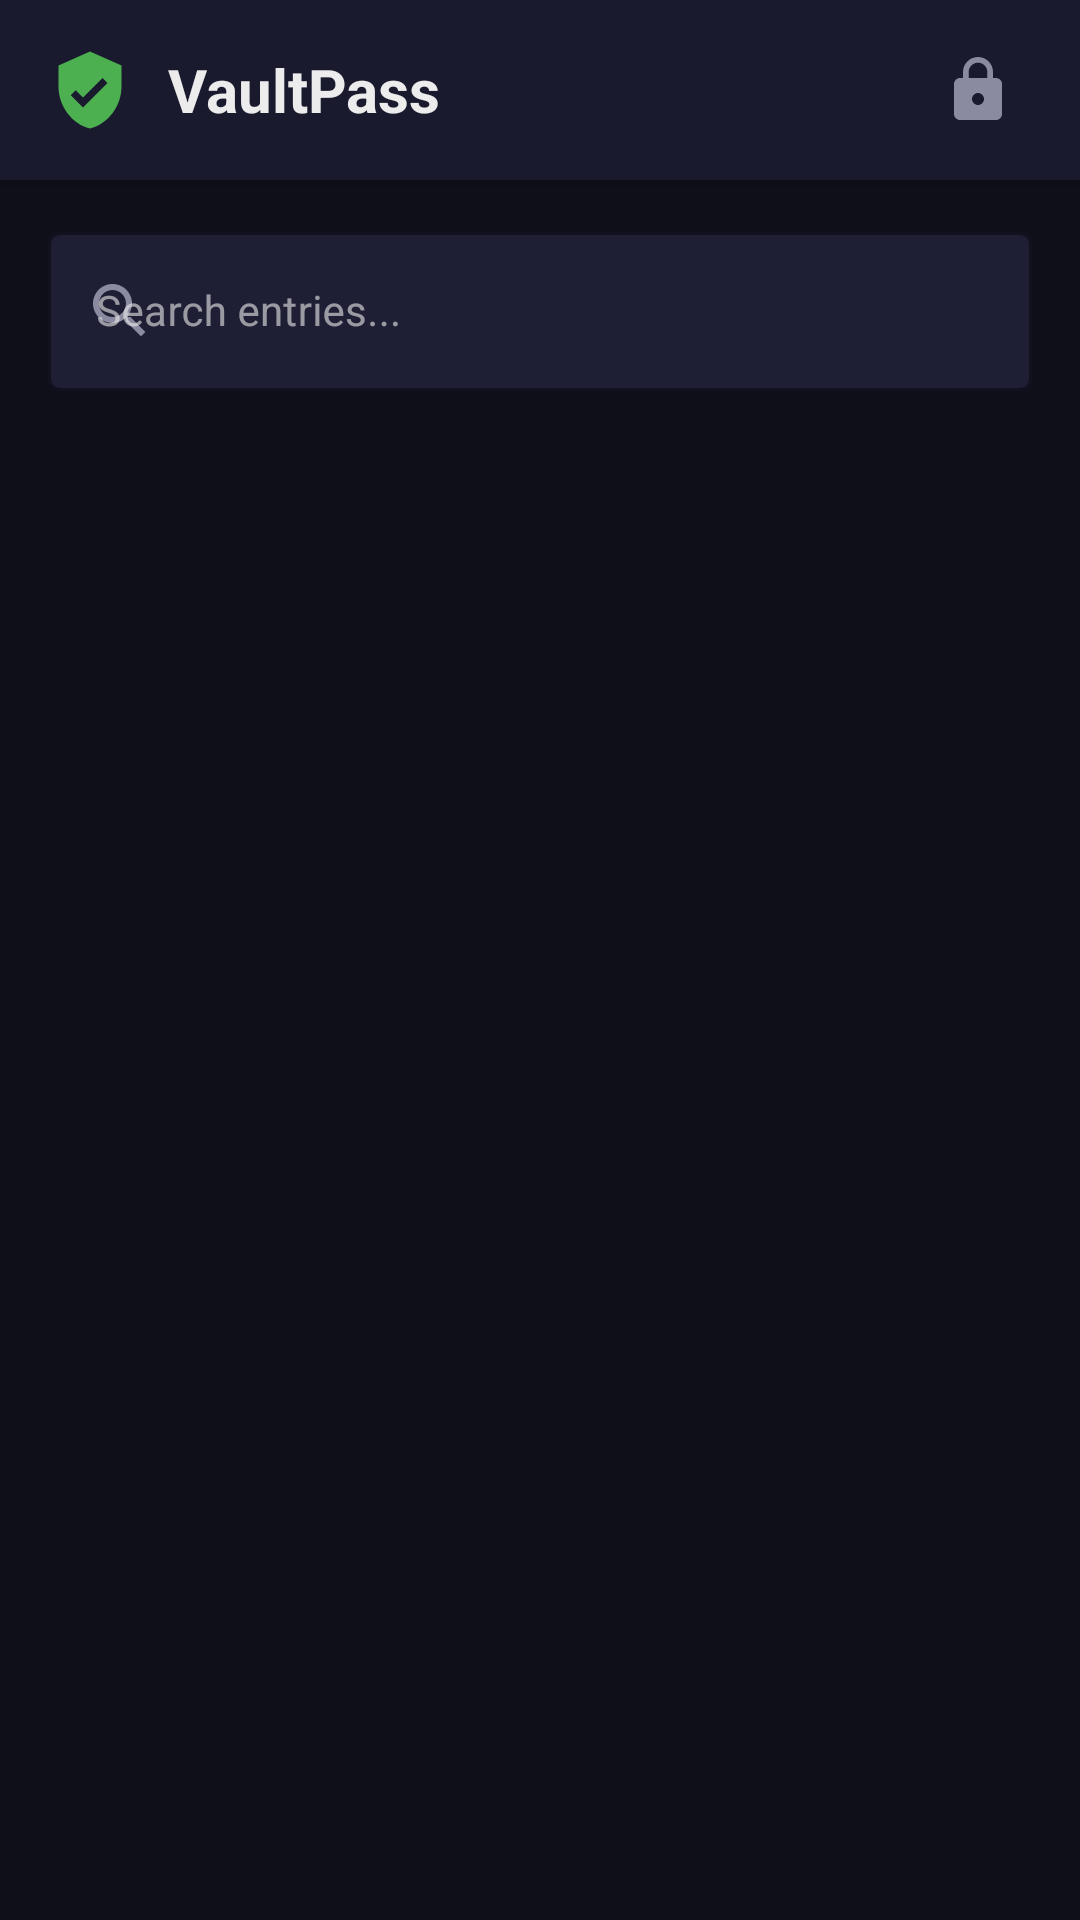

Icons on this 1080 × 1920 Android screen, each with the point to tap as (x,y):
Lock vault: (978,88)
Shield: (90,90)
